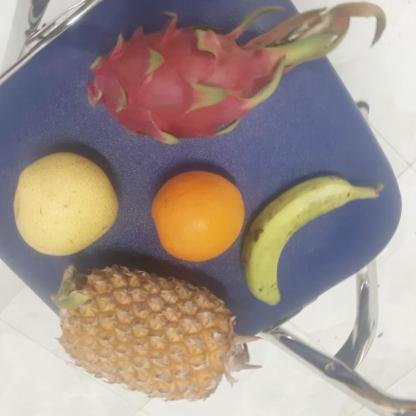banana: (235, 176, 360, 304)
pear: (8, 150, 119, 255), (147, 171, 248, 263)
pineapple: (51, 262, 233, 398)
pitaya: (72, 21, 278, 145)
